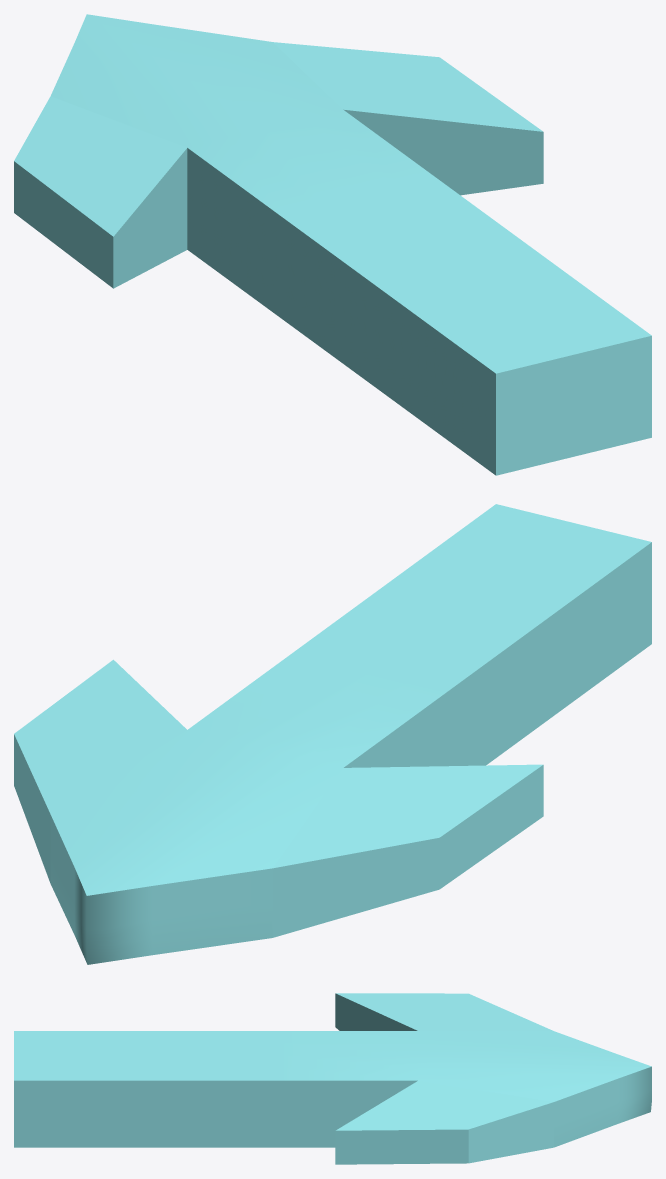
File: Arrow.fbx
3 renders of one model, top to bottom at view 1: azimuth 30°, elevation 25°; view 2: azimuth 150°, elevation 25°; view 3: azimuth 270°, elevation 25°, orthographic. The views are drawn at different scales.
Visible parts, largest first — view 1: pCube1; view 2: pCube1; view 3: pCube1.
Part boxes in pixels (x1,y1,x2,y2): pCube1: [14, 14, 651, 475]; pCube1: [14, 504, 651, 964]; pCube1: [14, 993, 651, 1164].
Size of the model in its own units: 22.87 by 5.18 by 44.86.
